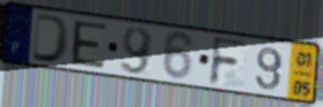6: (160, 29, 198, 84)
9: (118, 25, 157, 75), (254, 46, 285, 91)
D: (30, 12, 72, 66)
E: (71, 19, 109, 71)
F: (207, 35, 250, 88)
